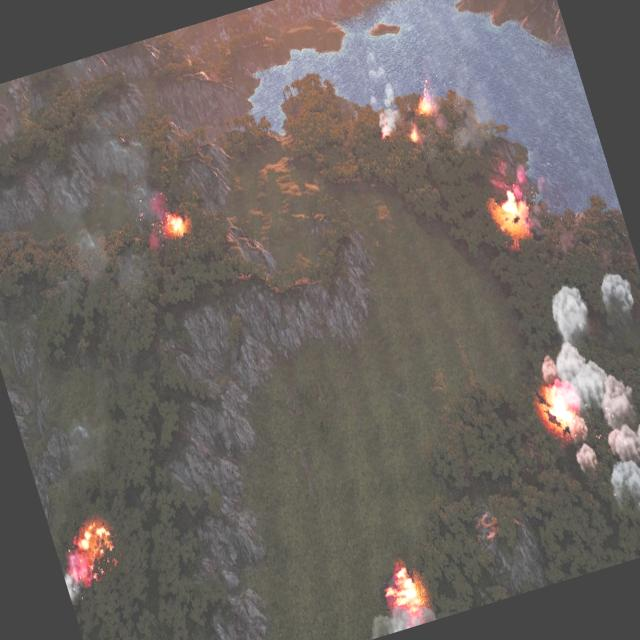fire: (61, 520, 122, 588), (539, 376, 587, 438), (379, 564, 428, 622), (493, 185, 530, 228), (163, 208, 188, 238), (416, 94, 434, 116), (408, 127, 420, 143), (378, 130, 389, 143)
smoke: (520, 263, 640, 567), (432, 57, 502, 160), (359, 55, 407, 139), (133, 184, 182, 250), (368, 597, 438, 638), (58, 548, 100, 602), (484, 150, 528, 193)
